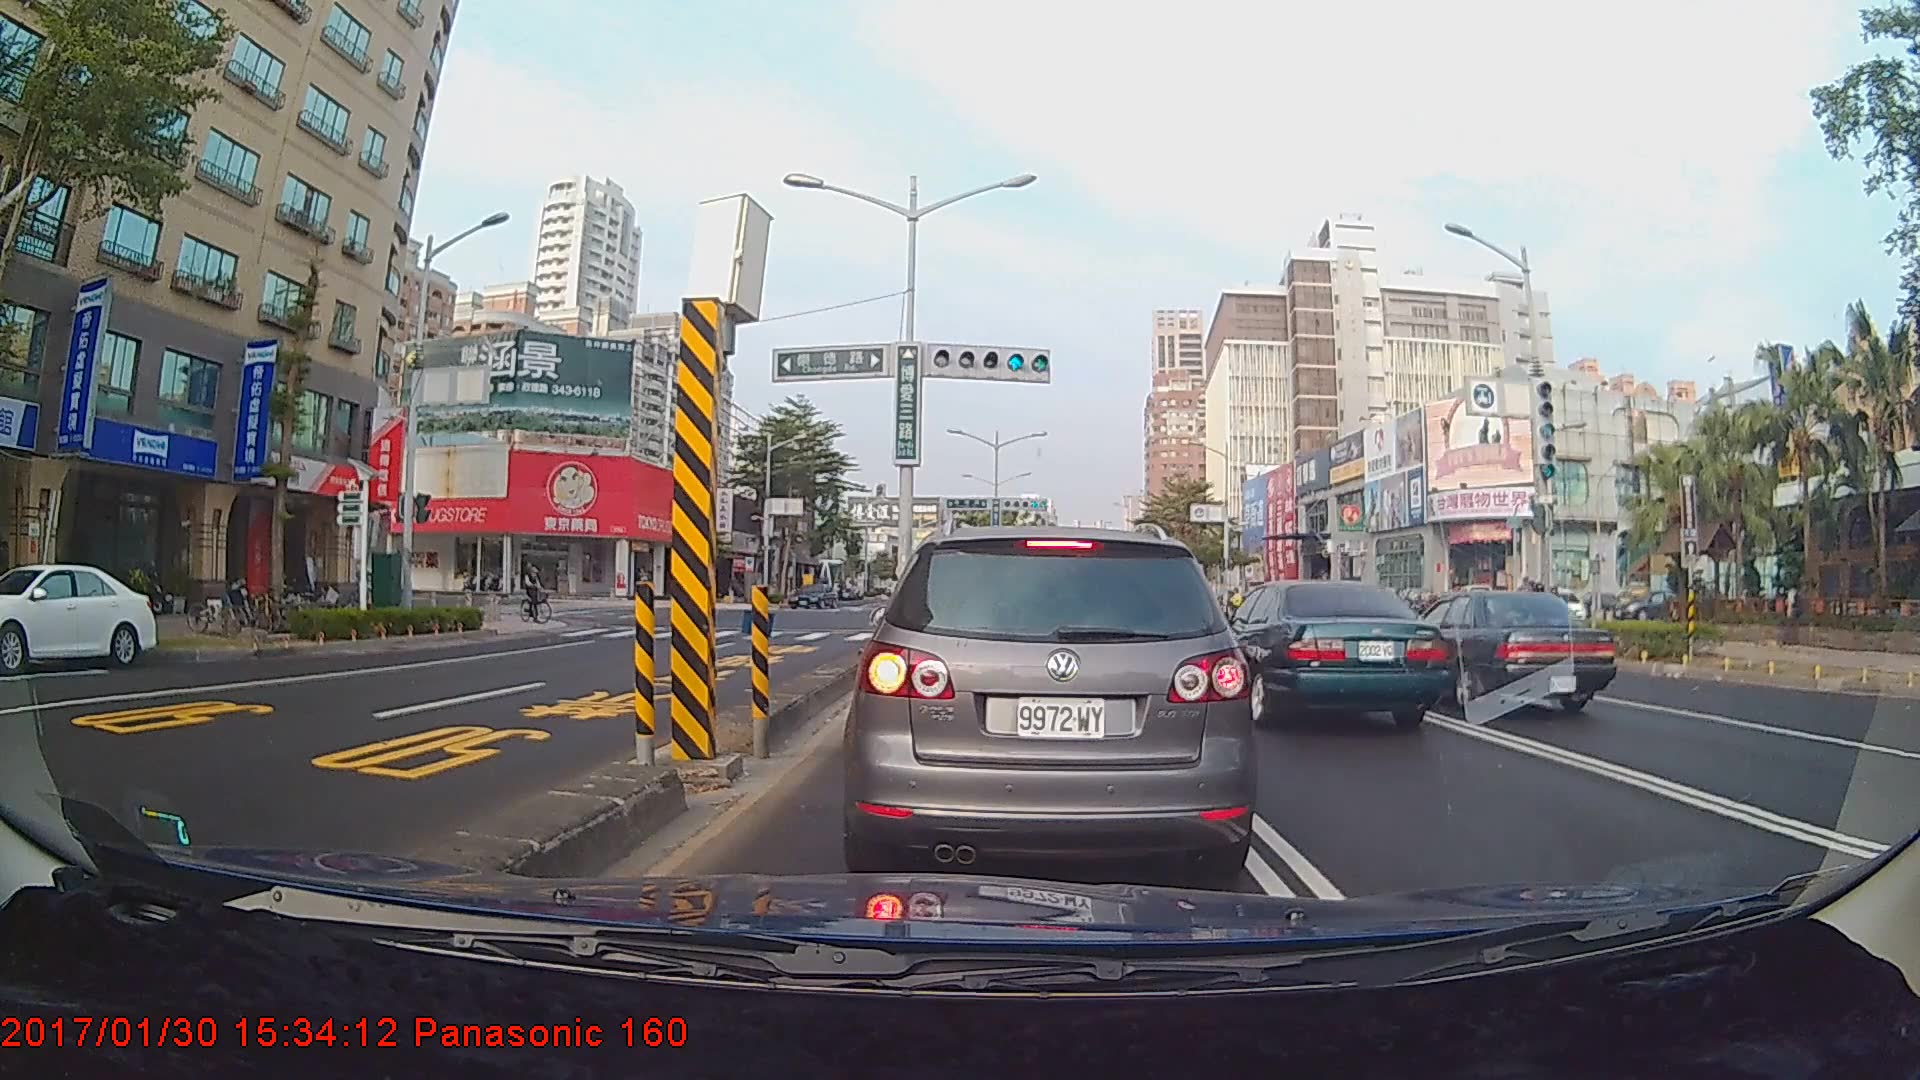pedestrian: (1778, 578, 1806, 645)
rider: (518, 559, 561, 629)
vehicle: (856, 526, 1245, 877), (1194, 576, 1454, 734), (1384, 588, 1617, 716), (0, 561, 161, 671), (792, 585, 838, 610)
